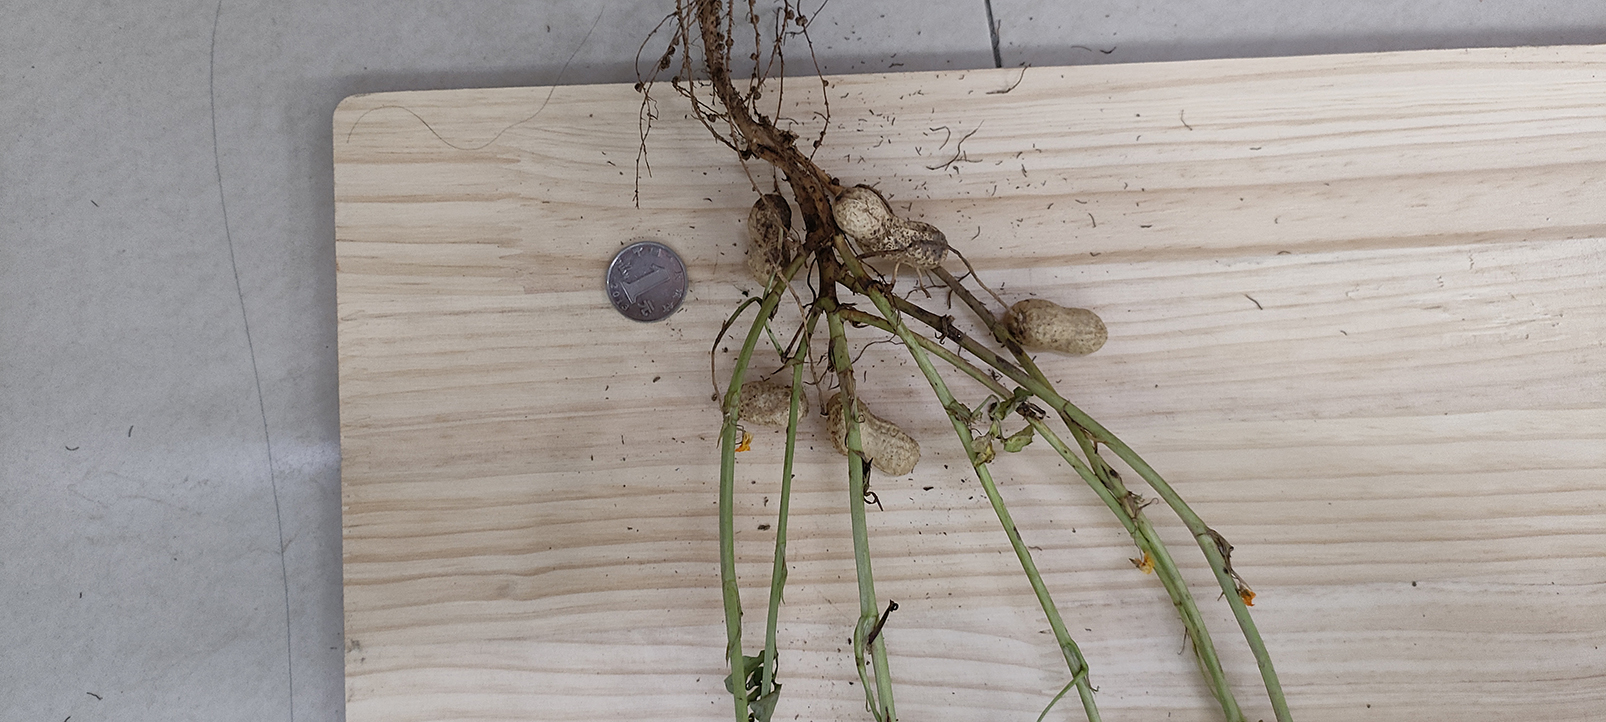h: (832, 187, 948, 269), (827, 393, 920, 478), (1007, 298, 1109, 355)
l: (746, 194, 793, 286), (738, 380, 810, 426)
